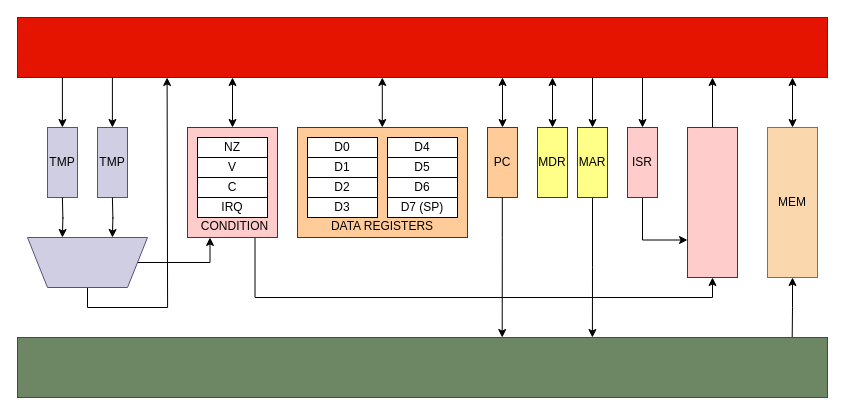
Image size: 845x415. Some labels were removed from this diagram. Here are the shapes that lost their labels. From the top down, the box of each, then its label:
(16, 16, 828, 78): DATA BUS (16-BIT)
(686, 126, 738, 278): CTRL
(26, 236, 148, 288): ALU
(16, 336, 828, 398): ADDRESS BUS (16-BIT)
